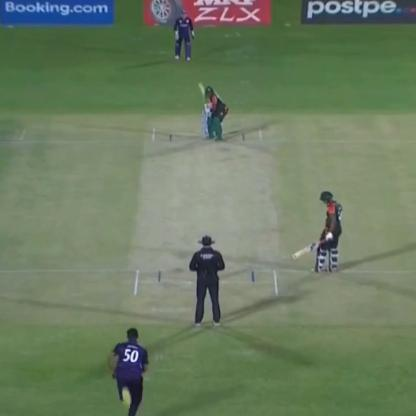bat: (188, 78, 218, 115)
pitch: (120, 123, 290, 303)
